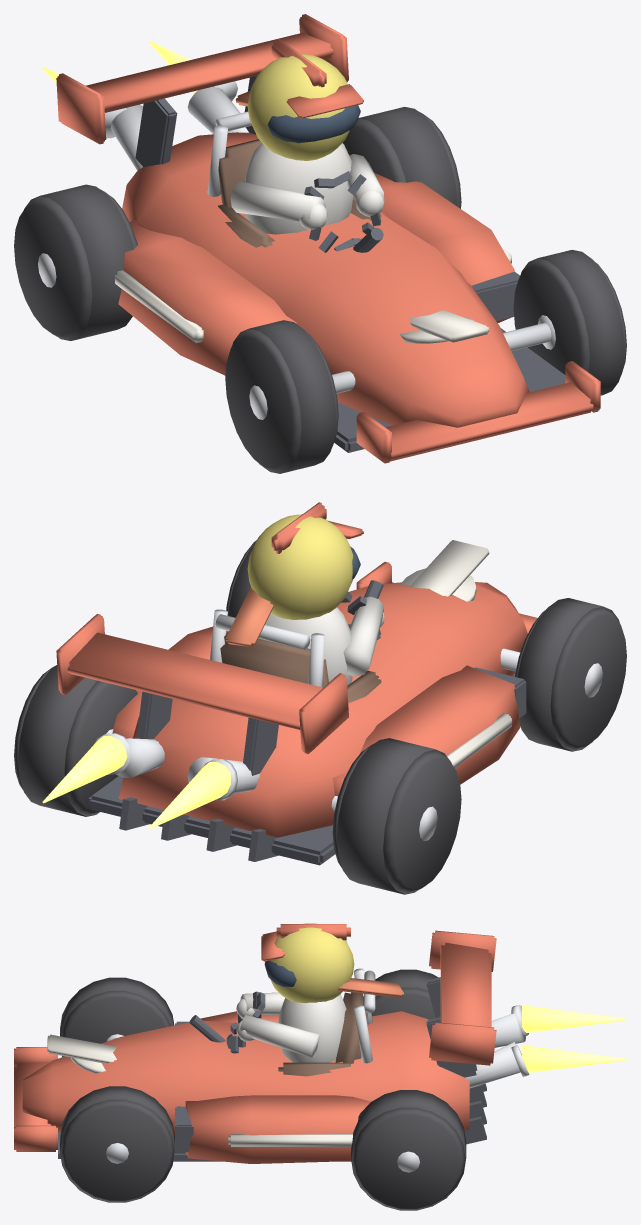
File: kart.glb
3 views of the same model, one above another, from view 1: azimuth 30°, elevation 25°; view 2: azimuth 150°, elevation 25°; view 3: azimuth 270°, elevation 25° (orthographic). The views are drawn at different scales.
Visible parts, largest first — view 1: BodyPaint, Wheel_RR, Wheel_FR, Wheel_FL, DriverHelmet, DriverTorso, ChassisDark, Wheel_RL, ChromeParts, BodyTrim, Seat; view 2: BodyPaint, Wheel_RR, Wheel_FR, DriverHelmet, Wheel_RL, ChassisDark, ChromeParts, DriverTorso, BodyTrim, Seat, ExhaustFlame_L, ExhaustFlame_R (+1 smaller); view 3: BodyPaint, Wheel_RL, Wheel_FL, DriverHelmet, DriverTorso, Wheel_FR, ChassisDark, ChromeParts, BodyTrim, Wheel_RR, Seat, ExhaustFlame_R (+1 smaller).
Boxes of the visible parts, x1,y1,x2,y2 form: BodyPaint: (56, 14, 600, 463); Wheel_RR: (14, 184, 137, 340); Wheel_FR: (225, 320, 338, 473); Wheel_FL: (513, 250, 626, 395); DriverHelmet: (235, 38, 363, 160); DriverTorso: (230, 143, 384, 234); ChassisDark: (135, 76, 565, 452); Wheel_RL: (343, 107, 461, 208); ChromeParts: (105, 81, 551, 393); BodyTrim: (114, 248, 511, 343); Seat: (218, 139, 381, 247); BodyPaint: (56, 562, 537, 837); Wheel_RR: (332, 738, 461, 894); Wheel_FR: (515, 598, 626, 751); DriverHelmet: (225, 502, 363, 647); Wheel_RL: (14, 665, 137, 816); ChassisDark: (88, 580, 526, 865); ChromeParts: (94, 609, 520, 811); DriverTorso: (265, 596, 384, 685); BodyTrim: (400, 540, 511, 767); Seat: (220, 631, 381, 702); ExhaustFlame_L: (42, 736, 127, 803); ExhaustFlame_R: (148, 761, 230, 829); BodyPaint: (14, 930, 496, 1163); Wheel_RL: (351, 1090, 466, 1210); Wheel_FL: (60, 1086, 174, 1202); DriverHelmet: (261, 923, 403, 1003); DriverTorso: (236, 992, 346, 1062); Wheel_FR: (60, 977, 174, 1056); ChassisDark: (58, 977, 486, 1161); ChromeParts: (113, 968, 529, 1088); BodyTrim: (47, 1034, 352, 1146); Wheel_RR: (371, 969, 437, 1019); Seat: (278, 992, 367, 1076); ExhaustFlame_R: (522, 1005, 626, 1032).
Bounding box in the file's own units: 2.01 × 1.42 × 3.62.
